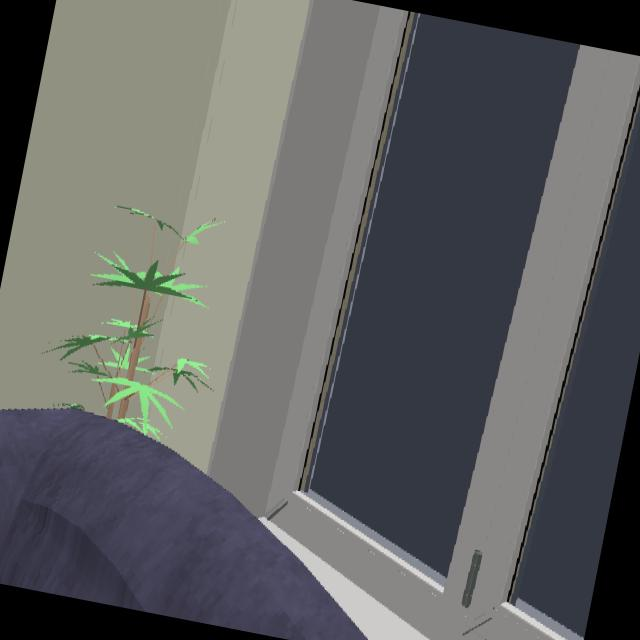sofa: (0, 409, 365, 640)
